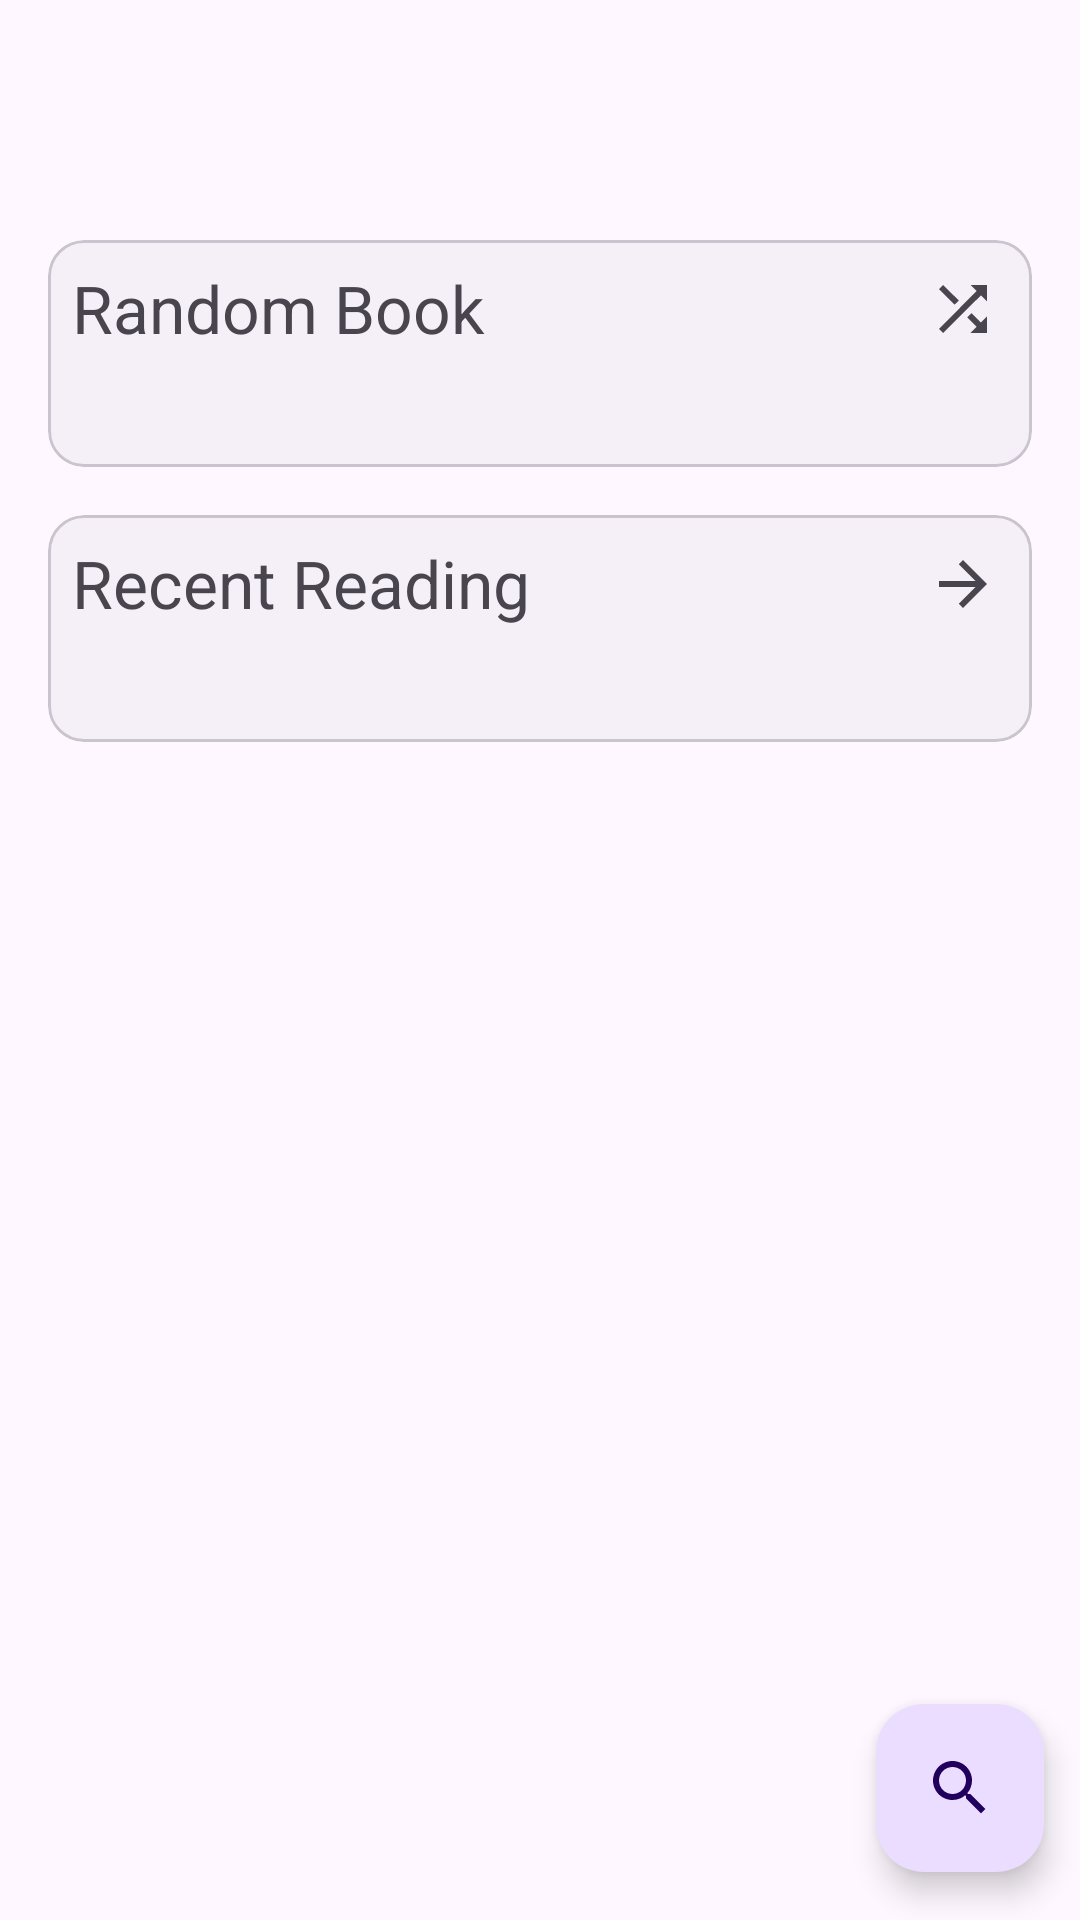

Screen size 1080px x 1920px. Icon name, then its box in pixels as bbox=(x1, y1, x2, y2):
Search: bbox=(876, 1704, 1044, 1872)
